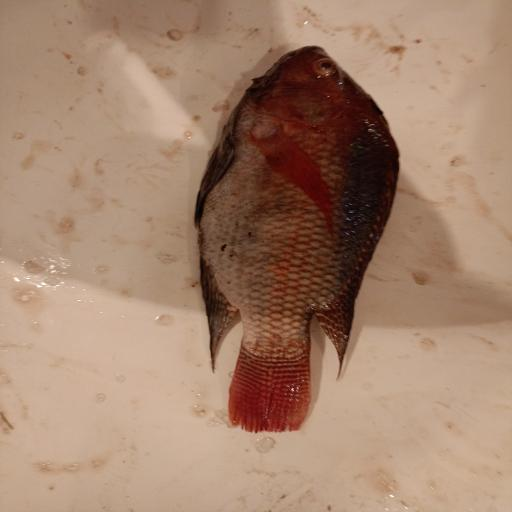Tilapia: (195, 46, 400, 434)
